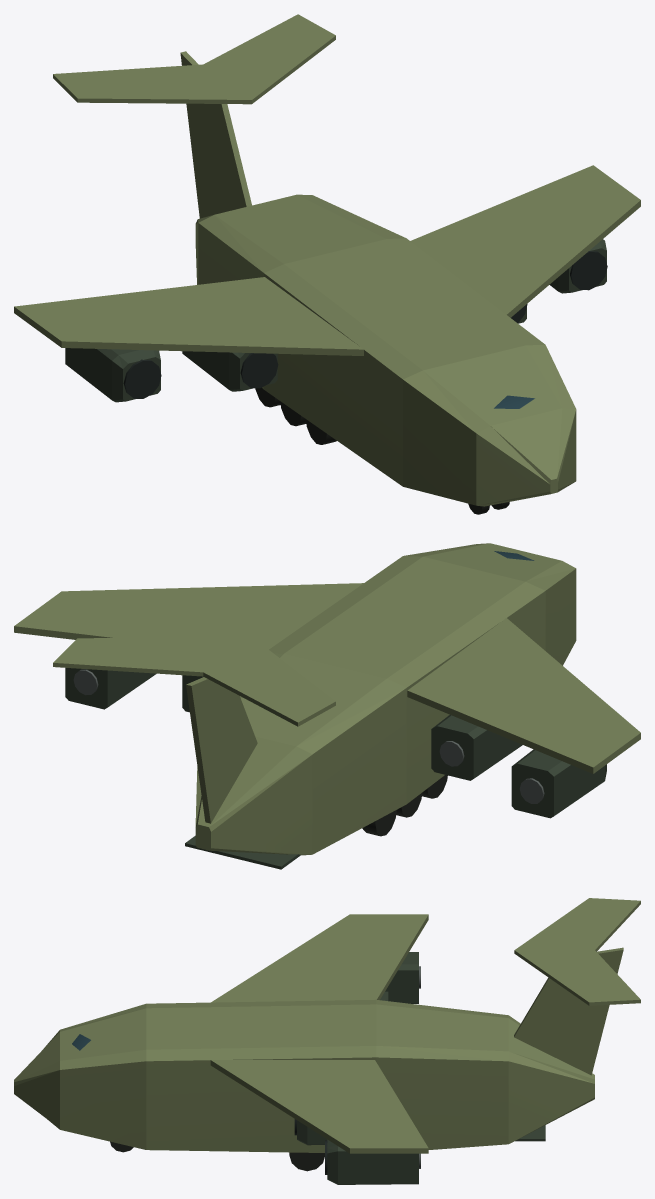
The model's file is cargoPlane-lod.glb.
3 renders of one model, top to bottom at view 1: azimuth 30°, elevation 25°; view 2: azimuth 150°, elevation 25°; view 3: azimuth 270°, elevation 25°, orthographic. The views are drawn at different scales.
Parts seen in each view (by area): view 1: armor, equipment (×4); view 2: armor, equipment (×5); view 3: armor, equipment (×5).
Part boxes in pixels (bbox=[...]): armor: bbox=[14, 14, 640, 506]; equipment (×4): bbox=[65, 239, 607, 514]; armor: bbox=[14, 543, 640, 855]; equipment (×5): bbox=[65, 551, 606, 869]; armor: bbox=[14, 898, 640, 1153]; equipment (×5): bbox=[72, 952, 545, 1184].
Size of the model in its own units: 26 by 10.2 by 29.43.
